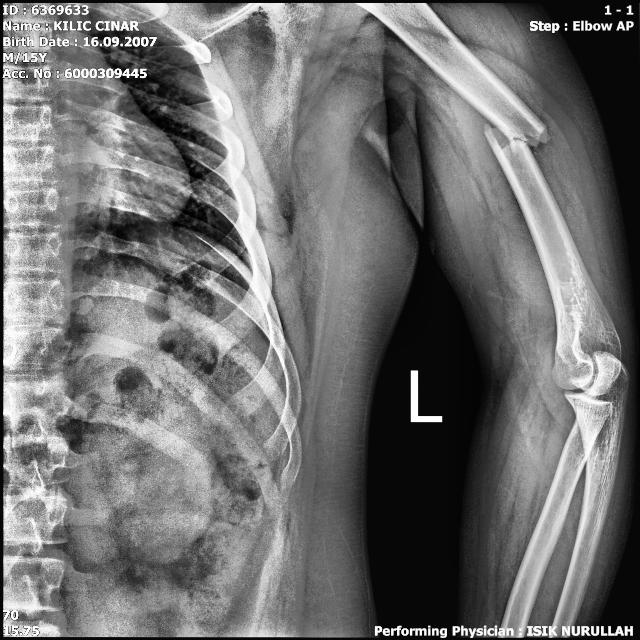Fracture: (473, 92, 557, 176)
